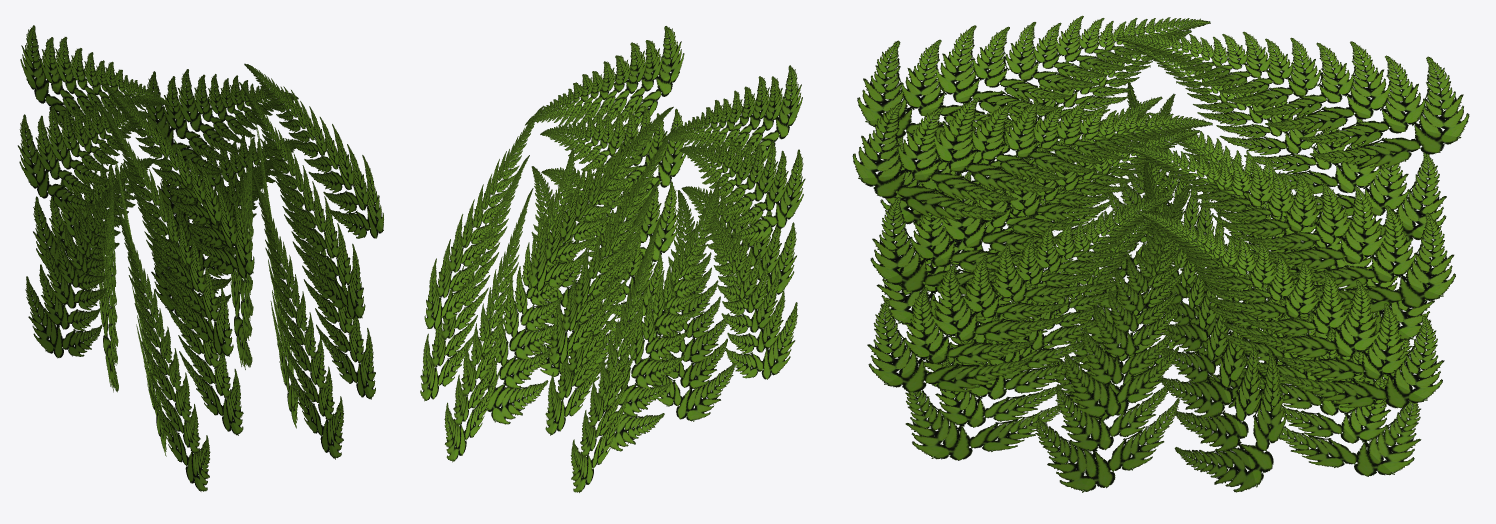
Rendered from GreenDoorWayShape.dae.
3 renders of one model, left to right at view 1: azimuth 30°, elevation 25°; view 2: azimuth 150°, elevation 25°; view 3: azimuth 270°, elevation 25°, orthographic. The views are drawn at different scales.
Parts seen in each view (by area): view 1: GreenDoorWay; view 2: GreenDoorWay; view 3: GreenDoorWay.
Boxes of the visible parts, bbox=[...] form: GreenDoorWay: bbox=[17, 25, 383, 491]; GreenDoorWay: bbox=[420, 26, 805, 492]; GreenDoorWay: bbox=[852, 15, 1469, 492].
Size of the model in its own units: 14.49 by 24.95 by 34.83.
